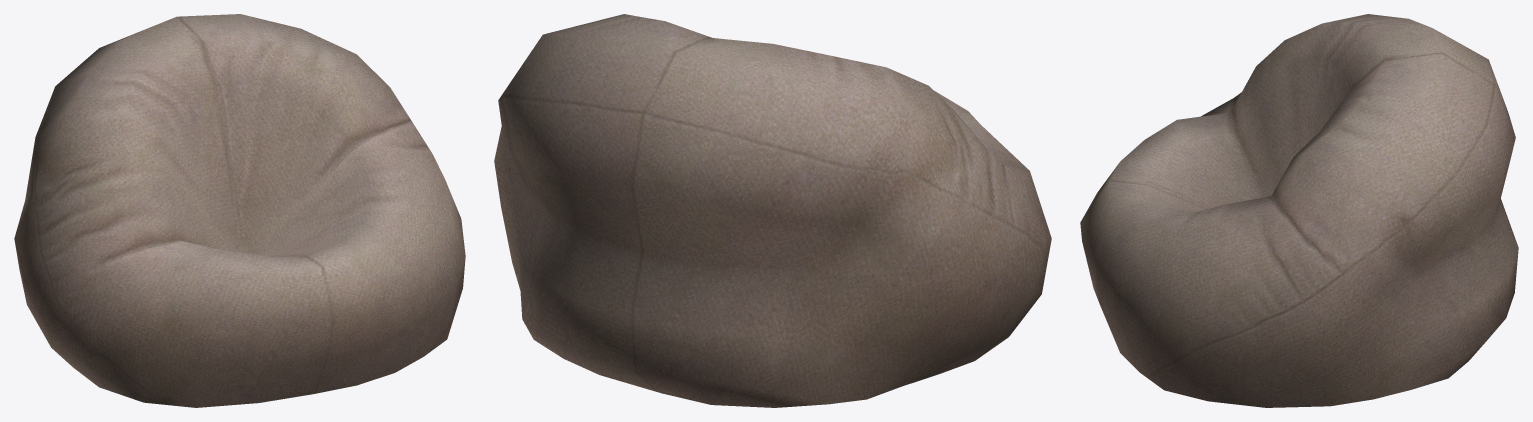
File: Ht_baozhen_03.FBX
3 renders of one model, left to right at view 1: azimuth 30°, elevation 25°; view 2: azimuth 150°, elevation 25°; view 3: azimuth 270°, elevation 25°, orthographic. The views are drawn at different scales.
Visible parts, largest first — view 1: Ht_baozhen_03; view 2: Ht_baozhen_03; view 3: Ht_baozhen_03.
Part boxes in pixels (bbox=[...]): Ht_baozhen_03: bbox=[14, 14, 465, 407]; Ht_baozhen_03: bbox=[494, 14, 1051, 407]; Ht_baozhen_03: bbox=[1080, 14, 1518, 407].
Size of the model in its own units: 121 by 74.09 by 109.
